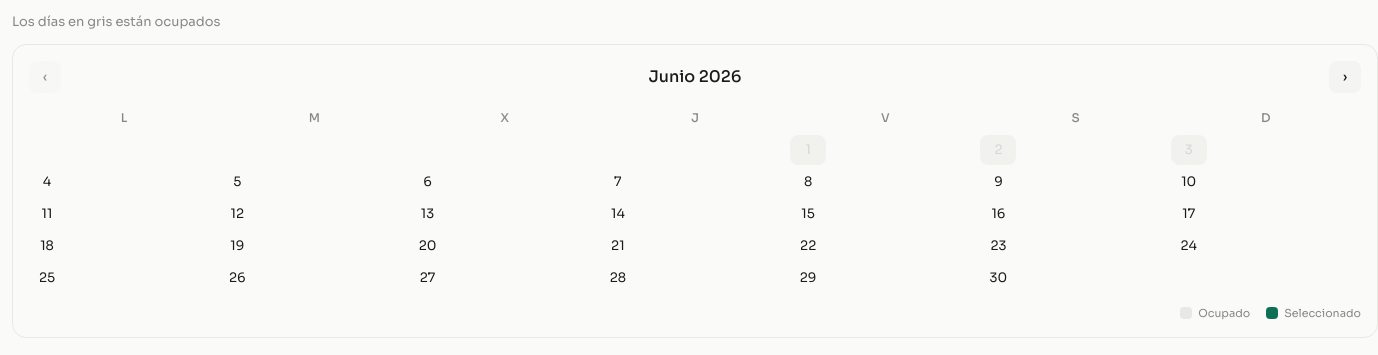
Test: ProductCalendar › navigates to next and previous months from the current view
The image size is (1378, 355).
Click the button named "Mes siguiente" at (1345, 76), box [1329,60,1361,92]
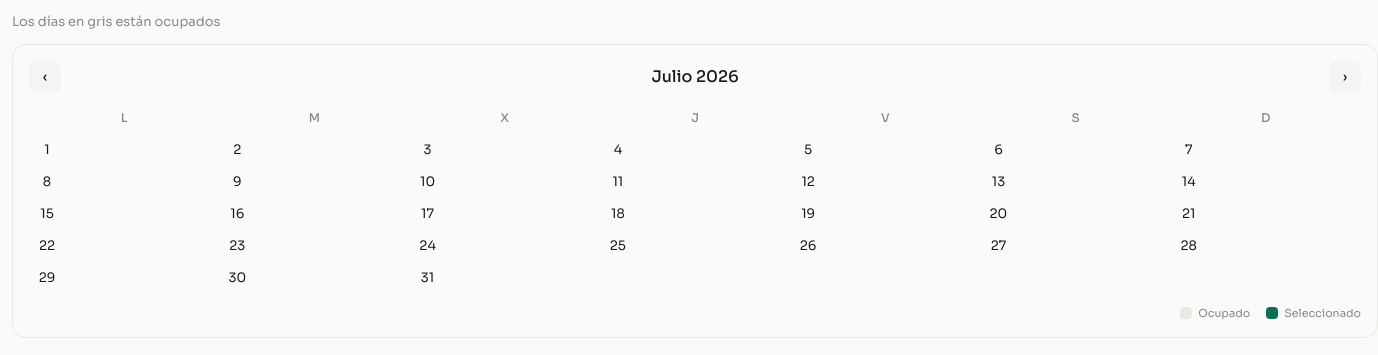
Now the text "Julio 2026" is shown, box [651,64,739,88]
Click the button named "Mes anterior" at (45, 76), box [29,60,61,92]
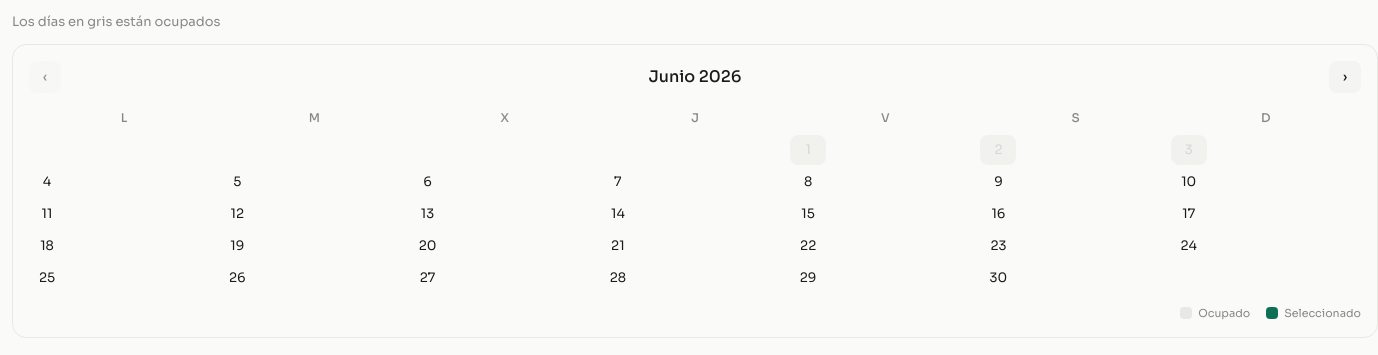
Now the text "Junio 2026" is shown, box [649,64,741,88]
